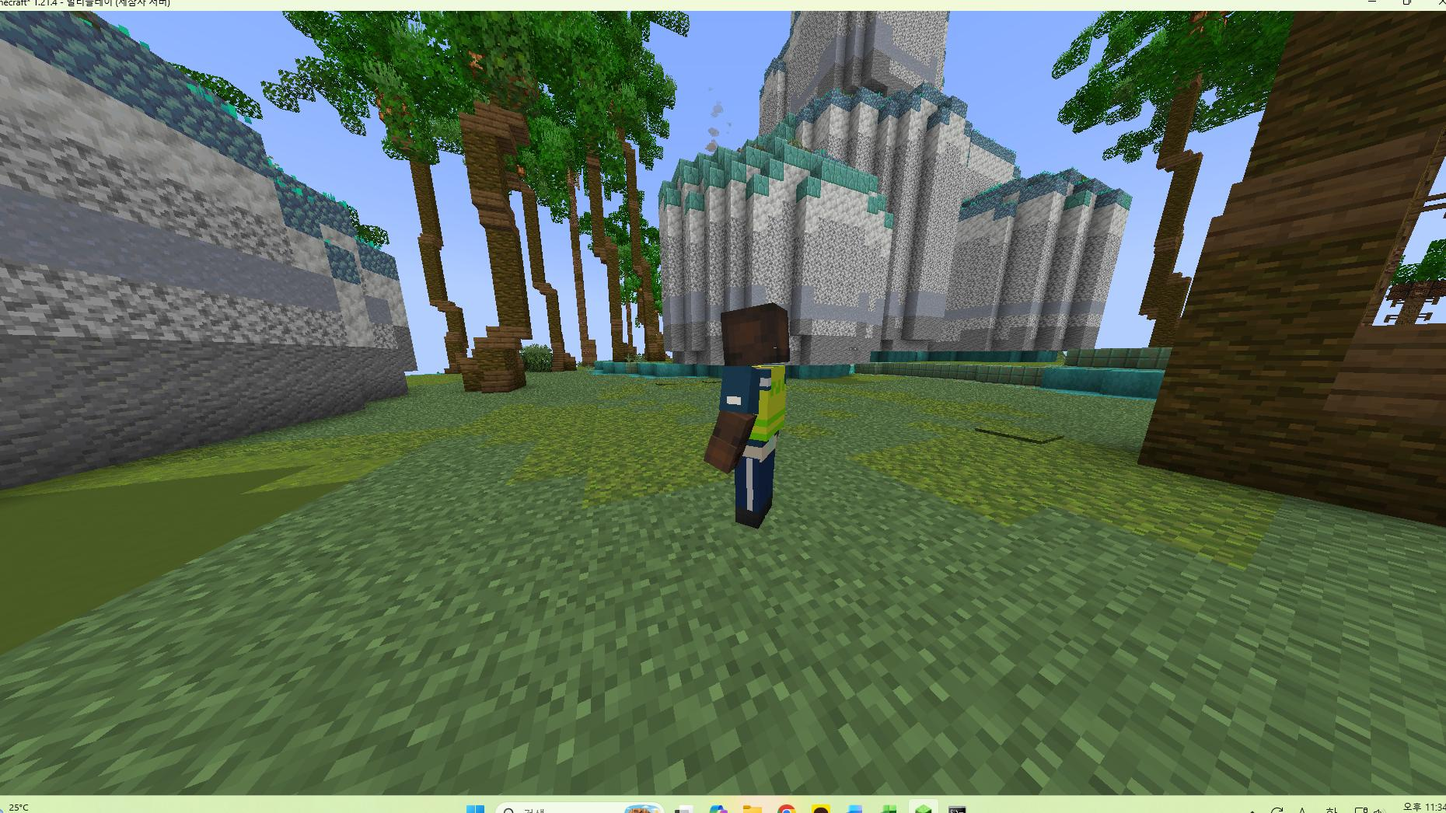Guardian: (705, 303, 790, 527)
